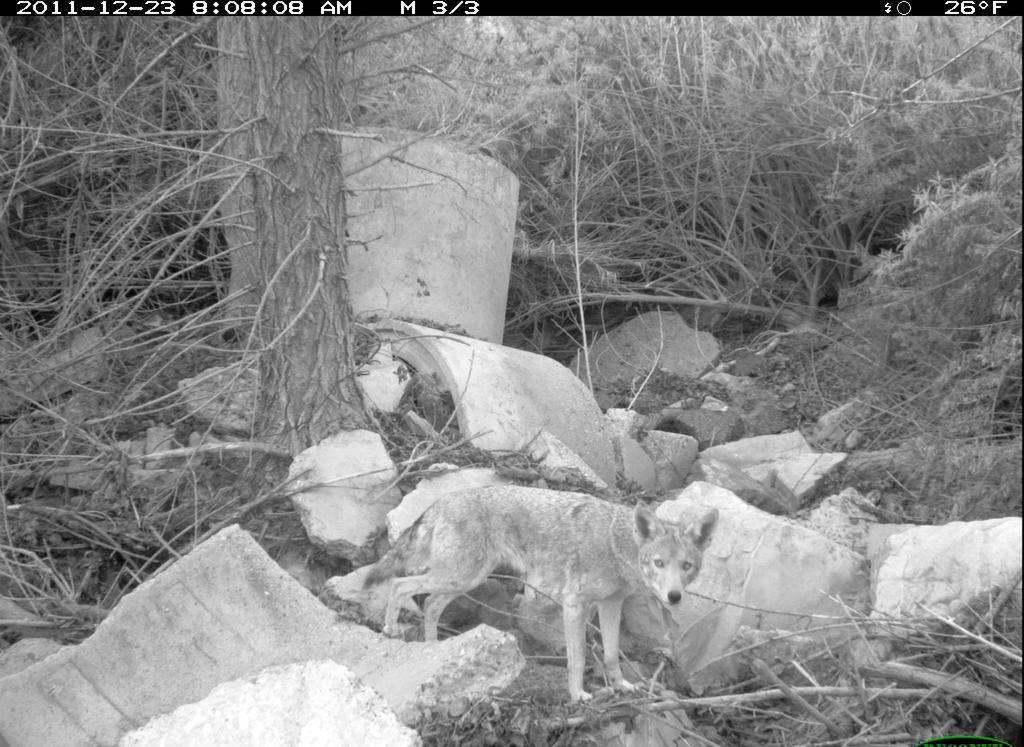coyote: (336, 454, 735, 724)
